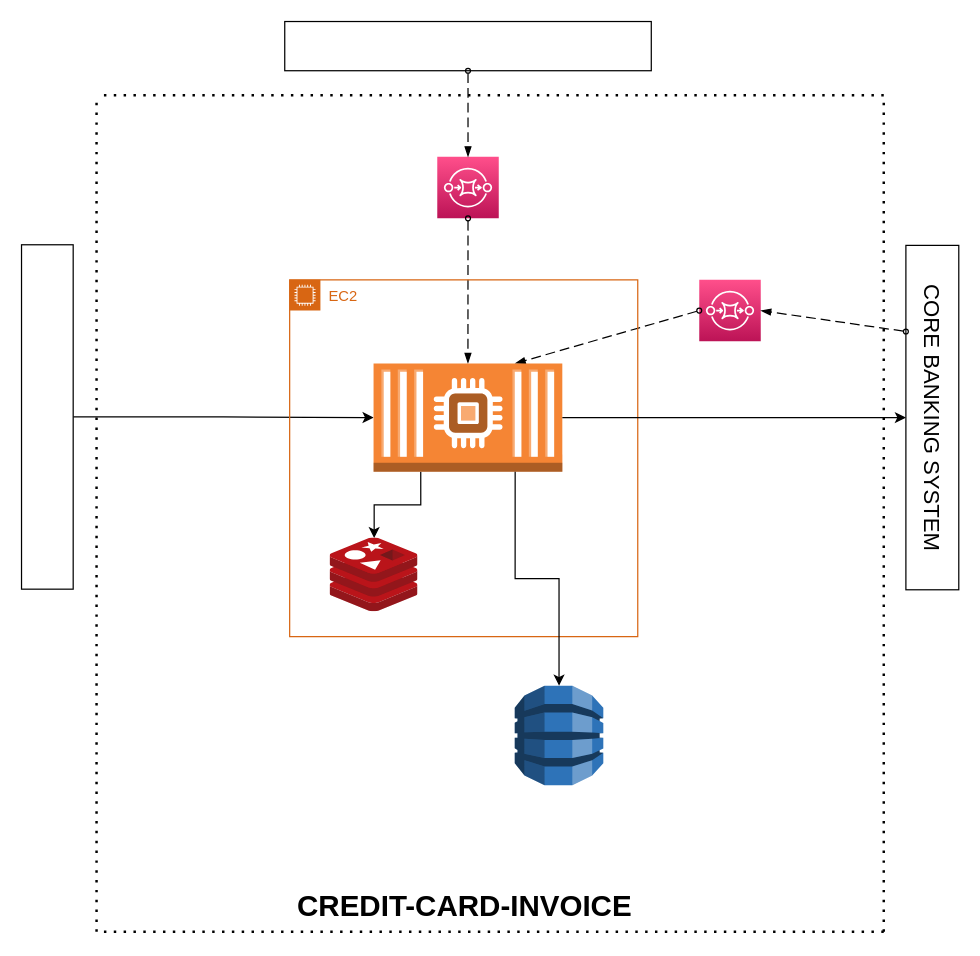
Image size: 980x956. Some labels were removed from this diagram. The shapes that lost their labels are listed below. From the top down, each one's box as (x1, y1, x2, y2) in pixels, then its label:
(284, 20, 651, 71): CUSTOMER INTERNAL SERVICE
(20, 244, 73, 589): FRONT-END API
